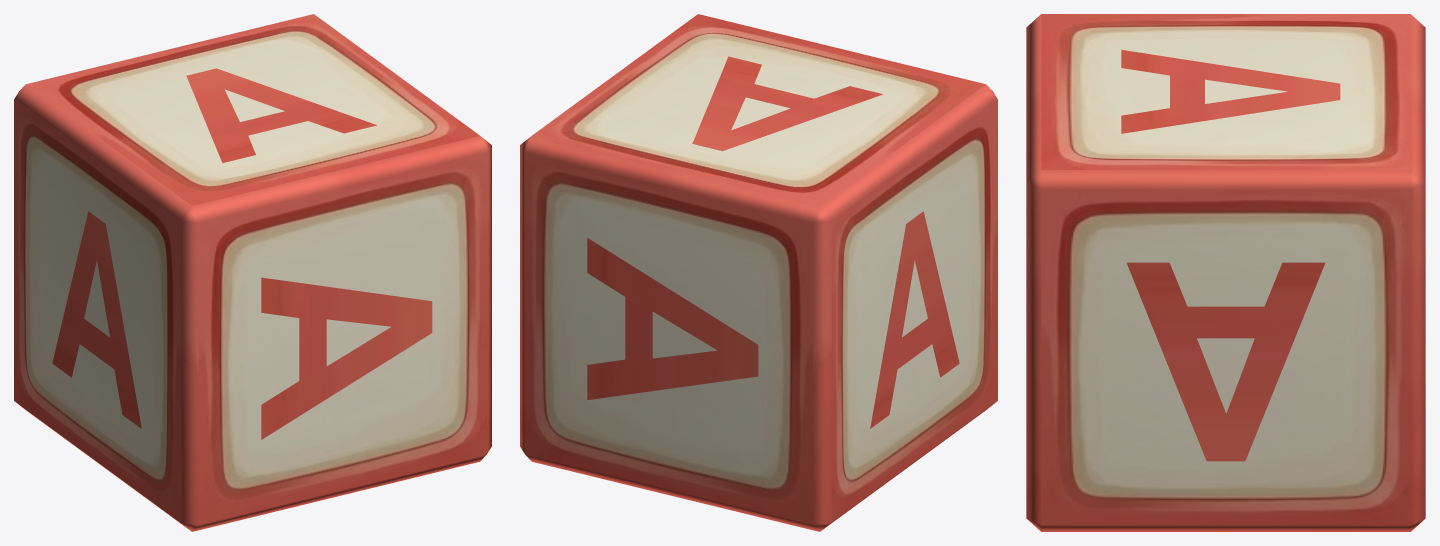
File: CubeA.glb
3 renders of one model, left to right at view 1: azimuth 30°, elevation 25°; view 2: azimuth 150°, elevation 25°; view 3: azimuth 270°, elevation 25°, orthographic. The views are drawn at different scales.
Parts seen in each view (by area): view 1: CubeA; view 2: CubeA; view 3: CubeA.
Part boxes in pixels (<box>): CubeA: <box>14,14,491,531</box>; CubeA: <box>520,14,997,531</box>; CubeA: <box>1026,14,1425,531</box>.
Size of what is drawn, in the model's own units: 0.5109 by 0.5109 by 0.5109.
1 material, 1 textured.
